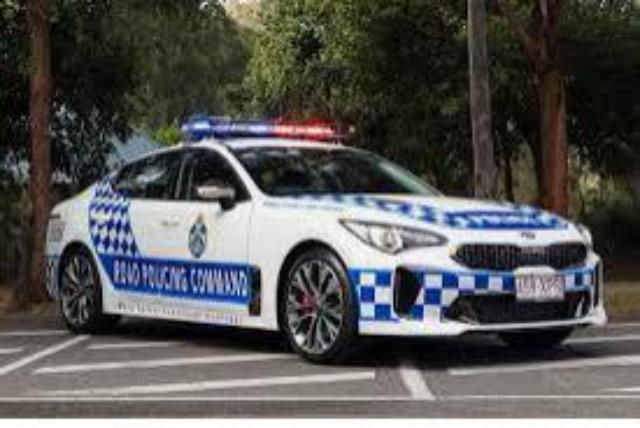police: (42, 116, 610, 365)
